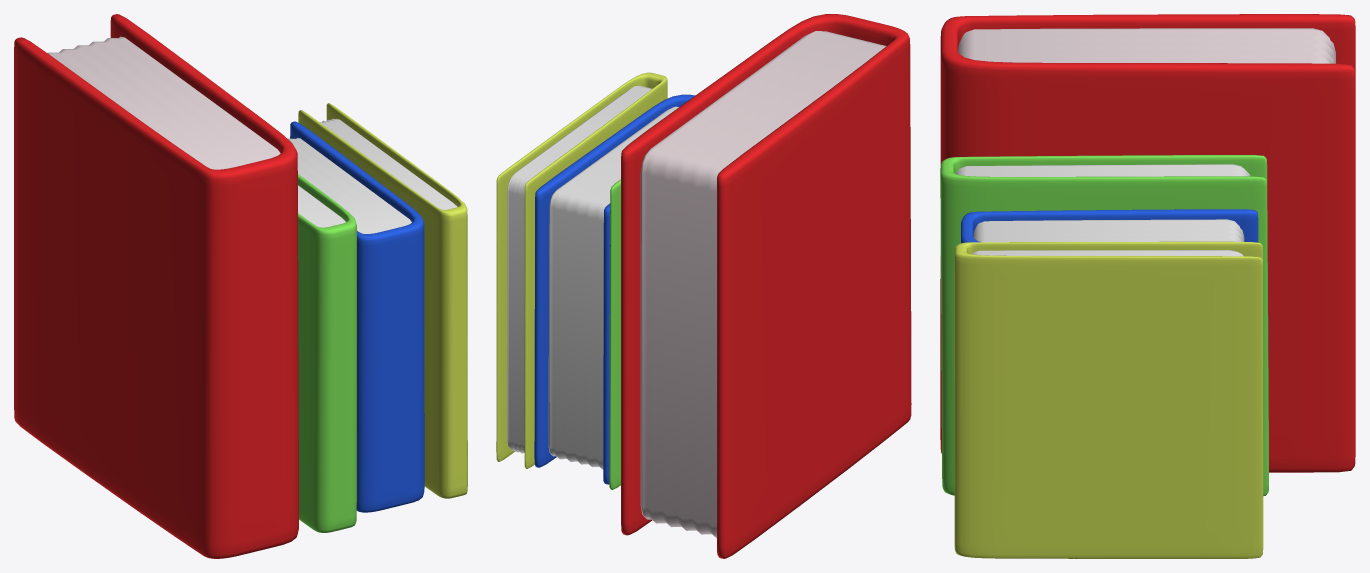
The model's file is kirjat_rivissa.fbx.
The picture shows the model from 3 angles, left to right: view 1: azimuth 30°, elevation 25°; view 2: azimuth 150°, elevation 25°; view 3: azimuth 270°, elevation 25°; orthographic projection. The views are drawn at different scales.
Visible parts, largest first — view 1: kirja, kirja.003, kirja.001, kirja.002, sivut, sivut.003, sivut.002, sivut.001; view 2: kirja, sivut, sivut.003, kirja.002, kirja.003, sivut.002, kirja.001; view 3: kirja.002, kirja, kirja.001, sivut, sivut.003, kirja.003, sivut.001, sivut.002.
Part boxes in pixels (x1,y1,x2,y2): kirja: [14, 14, 298, 558]; kirja.003: [290, 121, 424, 512]; kirja.001: [298, 174, 356, 532]; kirja.002: [298, 103, 467, 498]; sivut: [47, 36, 280, 169]; sivut.003: [288, 137, 411, 233]; sivut.002: [319, 118, 457, 209]; sivut.001: [298, 185, 345, 227]; kirja: [621, 14, 911, 558]; sivut: [640, 31, 886, 538]; sivut.003: [548, 106, 678, 469]; kirja.002: [496, 72, 667, 468]; kirja.003: [534, 94, 695, 484]; sivut.002: [507, 85, 651, 453]; kirja.001: [609, 179, 620, 489]; kirja.002: [954, 241, 1263, 558]; kirja: [940, 14, 1355, 472]; kirja.001: [940, 155, 1268, 495]; sivut: [958, 28, 1335, 63]; sivut.003: [973, 219, 1244, 242]; kirja.003: [961, 209, 1258, 243]; sivut.001: [956, 164, 1250, 176]; sivut.002: [971, 250, 1243, 256].
Size of the model in its own units: 23.99 by 32.23 by 29.8.
